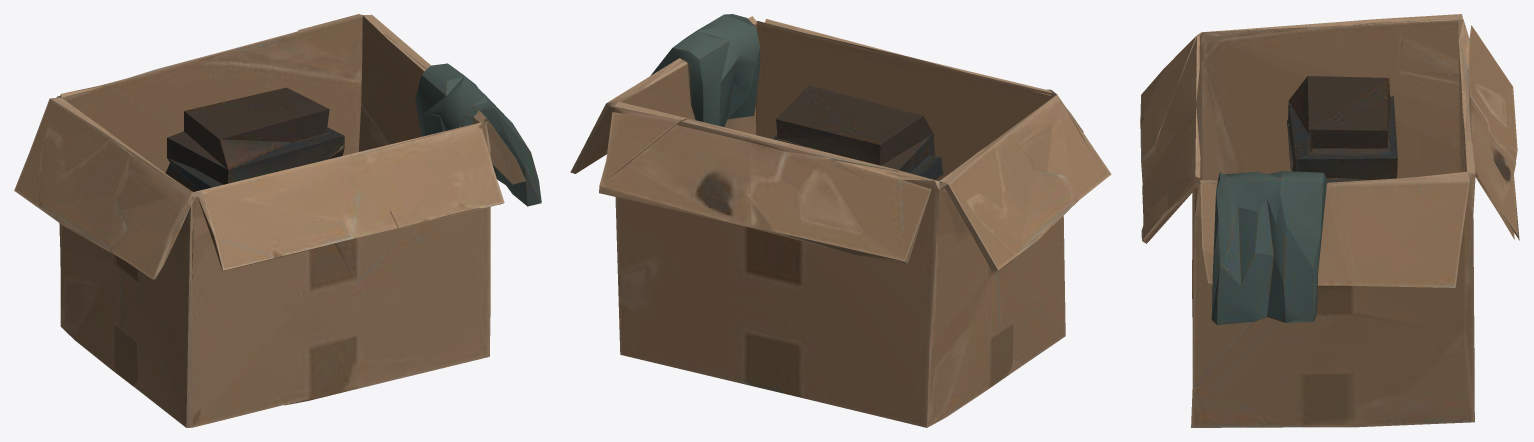
Rendered from boxes.glb.
The picture shows the model from 3 angles, left to right: view 1: azimuth 30°, elevation 25°; view 2: azimuth 150°, elevation 25°; view 3: azimuth 270°, elevation 25°; orthographic projection. The views are drawn at different scales.
Bounding box in the file's own units: 1.9 × 1.07 × 1.41.
Materials: 1 (1 with a texture image).
